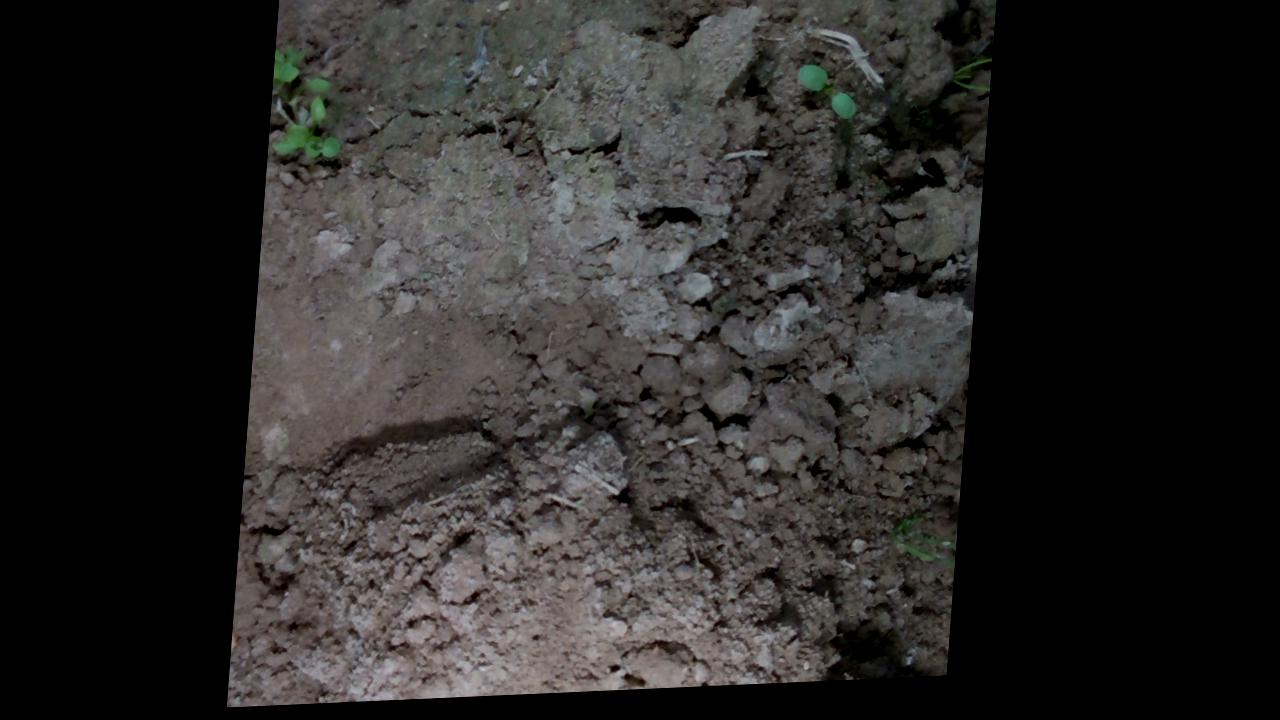weed: (795, 70, 863, 131)
